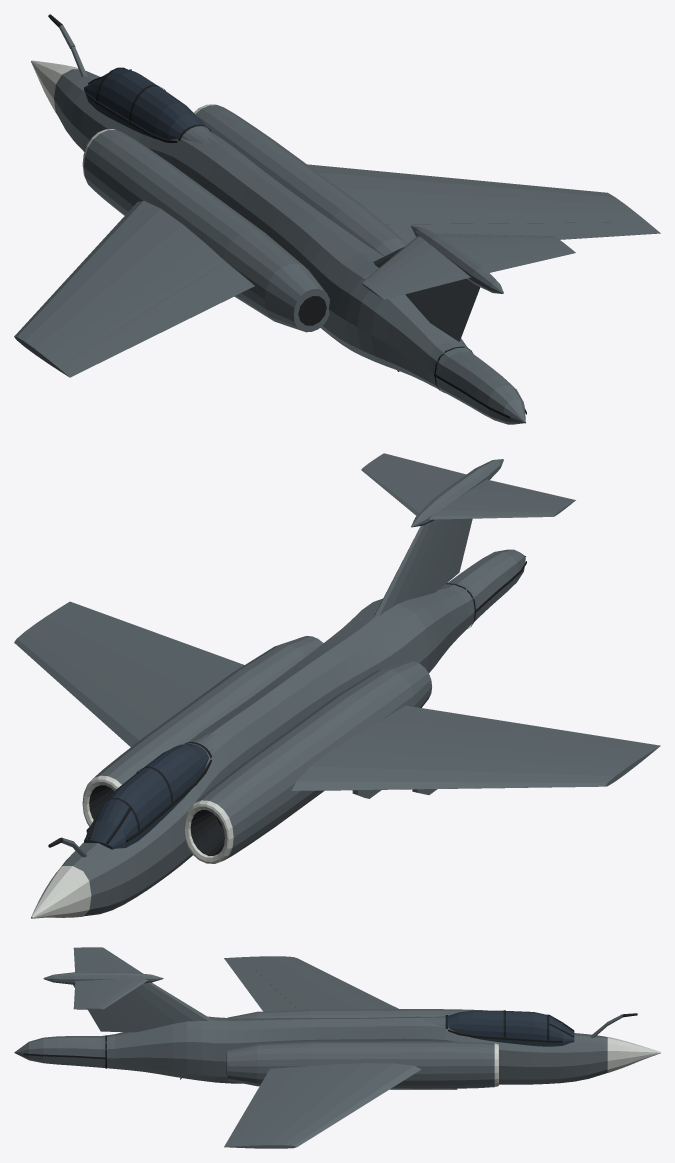
Rendered from buccaneer.glb.
3 renders of one model, top to bottom at view 1: azimuth 30°, elevation 25°; view 2: azimuth 150°, elevation 25°; view 3: azimuth 270°, elevation 25°, orthographic. The views are drawn at different scales.
Visible parts, largest first — view 1: Fuselage, Nacelles, Wing L, Wing R, Cockpit Glass, Aileron L, Stabilizer L, Flap L, Rudder, Aileron R, Stabilizer R, Tail Bullet (+7 smaller); view 2: Fuselage, Nacelles, Wing L, Wing R, Cockpit Glass, Vertical Fin, Stabilizer L, Intake L, Radome, Stabilizer R, Aileron L, Aileron R (+8 smaller); view 3: Fuselage, Nacelles, Wing R, Wing L, Cockpit Glass, Vertical Fin, Radome, Stabilizer R, Rudder, Tail Bullet, Aileron R, Flap R (+6 smaller).
Part boxes in pixels (left/top/right/bottom): Fuselage: left=54, top=69, right=525, bottom=424; Nacelles: left=83, top=105, right=407, bottom=332; Wing L: left=14, top=200, right=254, bottom=377; Wing R: left=307, top=164, right=660, bottom=243; Cockpit Glass: left=84, top=69, right=206, bottom=139; Aileron L: left=67, top=306, right=175, bottom=371; Stabilizer L: left=361, top=236, right=451, bottom=294; Flap L: left=161, top=266, right=246, bottom=321; Rudder: left=422, top=278, right=480, bottom=341; Aileron R: left=493, top=222, right=644, bottom=239; Stabilizer R: left=436, top=233, right=567, bottom=257; Tail Bullet: left=411, top=225, right=503, bottom=293; Fuselage: left=31, top=549, right=525, bottom=918; Nacelles: left=94, top=636, right=431, bottom=859; Wing L: left=291, top=705, right=660, bottom=790; Wing R: left=14, top=601, right=224, bottom=746; Cockpit Glass: left=84, top=744, right=208, bottom=849; Vertical Fin: left=374, top=519, right=453, bottom=617; Stabilizer L: left=429, top=491, right=568, bottom=519; Intake L: left=184, top=800, right=233, bottom=863; Radome: left=31, top=866, right=91, bottom=918; Stabilizer R: left=361, top=458, right=449, bottom=515; Aileron L: left=493, top=722, right=644, bottom=751; Aileron R: left=67, top=605, right=175, bottom=652; Fuselage: left=14, top=1016, right=607, bottom=1084; Nacelles: left=227, top=1009, right=494, bottom=1088; Wing R: left=224, top=1063, right=421, bottom=1148; Wing L: left=224, top=956, right=398, bottom=1009; Cockpit Glass: left=448, top=1010, right=574, bottom=1046; Vertical Fin: left=117, top=982, right=212, bottom=1029; Radome: left=607, top=1037, right=660, bottom=1072; Stabilizer R: left=84, top=979, right=147, bottom=1009; Rudder: left=73, top=984, right=145, bottom=1032; Tail Bullet: left=43, top=972, right=163, bottom=984; Aileron R: left=227, top=1100, right=278, bottom=1142; Flap R: left=252, top=1070, right=302, bottom=1099.
Bounding box in the file's own units: 13.4 × 3.64 × 19.39.
